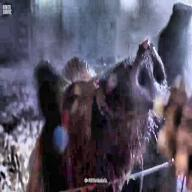boar: (33, 31, 178, 192)
